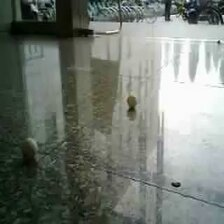w: (22, 138, 39, 157), (126, 95, 139, 108)
